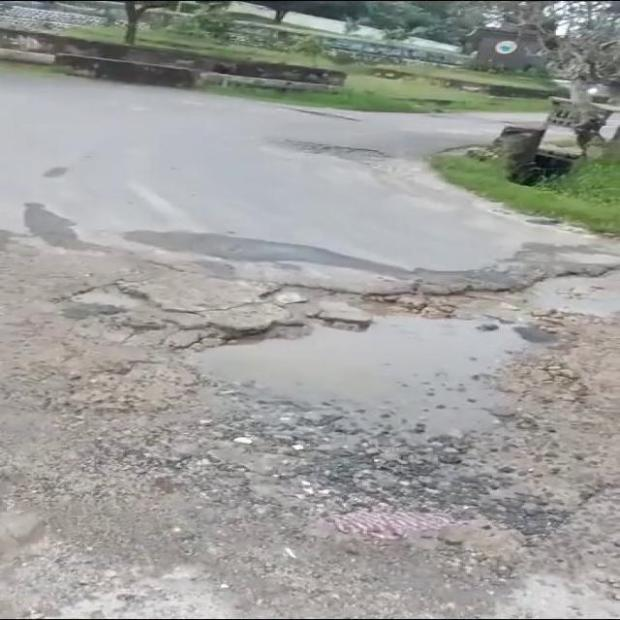lubang: (74, 269, 619, 436)
